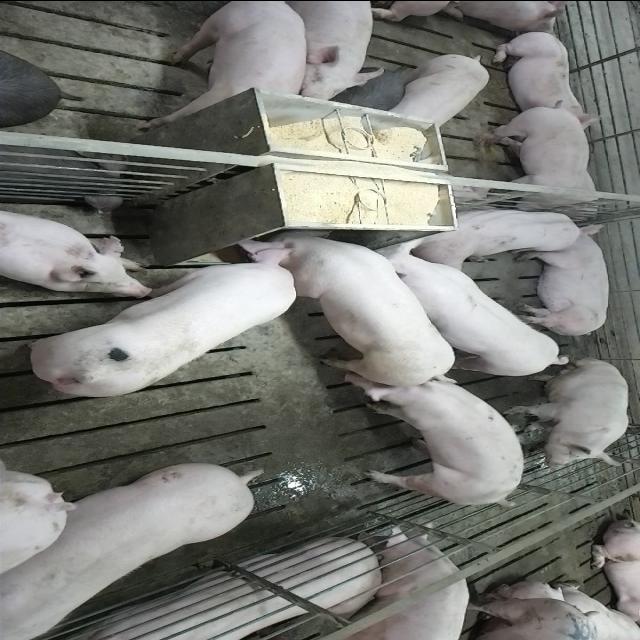Feeding: (25, 240, 302, 398), (258, 228, 464, 390)
Lateral_lying: (41, 539, 384, 640), (513, 223, 612, 337)
Sitting: (508, 357, 632, 469)
Standing: (5, 457, 266, 635), (356, 241, 572, 380), (335, 378, 529, 512), (135, 2, 307, 130), (467, 100, 612, 218), (339, 524, 473, 640), (263, 0, 386, 103), (385, 52, 489, 128)
Sternal_lying: (0, 206, 150, 294), (486, 27, 604, 123), (412, 203, 586, 265)
